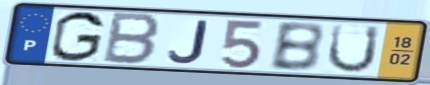5: (218, 18, 268, 71)
B: (99, 10, 164, 67), (266, 21, 326, 73)
G: (49, 9, 108, 64)
J: (166, 19, 210, 65)
U: (324, 23, 383, 75)
